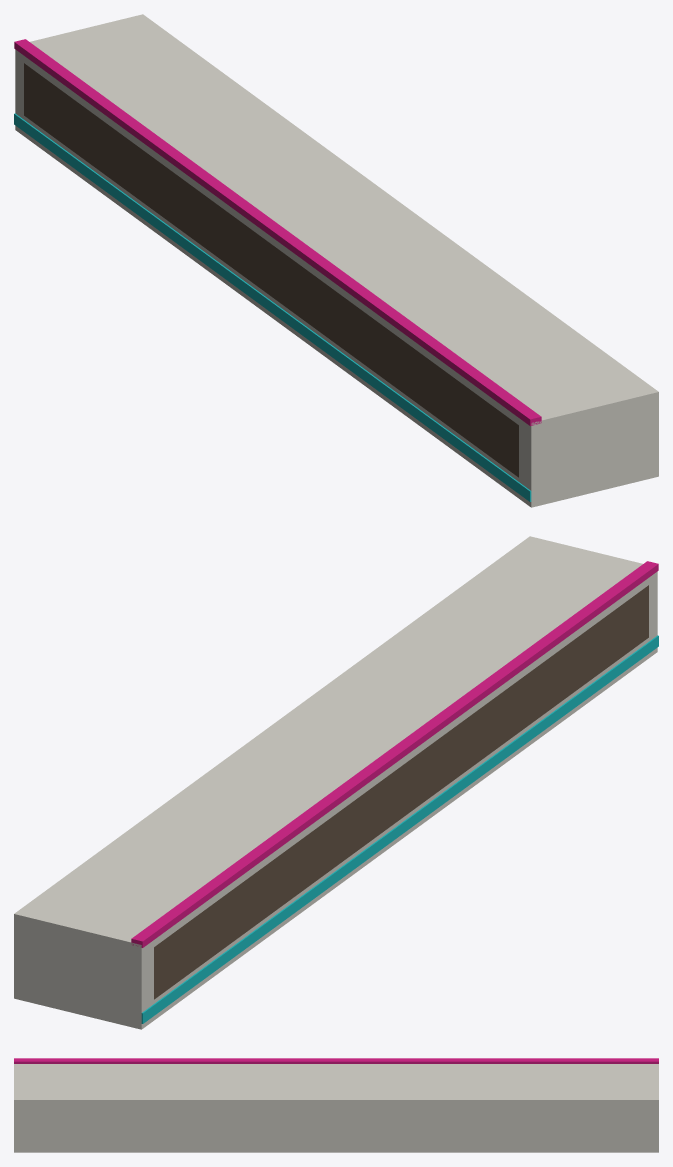
Rendered from SM_PeriFrieze.fbx.
The picture shows the model from 3 angles, top to bottom: view 1: azimuth 30°, elevation 25°; view 2: azimuth 150°, elevation 25°; view 3: azimuth 270°, elevation 25°; orthographic projection. The views are drawn at different scales.
Parts seen in each view (by area): view 1: SM_PeriFrieze; view 2: SM_PeriFrieze; view 3: SM_PeriFrieze.
Boxes of the visible parts, box(x1,y1,x2,y2) form: SM_PeriFrieze: box(14, 14, 658, 507); SM_PeriFrieze: box(14, 536, 658, 1029); SM_PeriFrieze: box(14, 1058, 658, 1152).
Size of the model in its own units: 568 by 3920 by 371.
